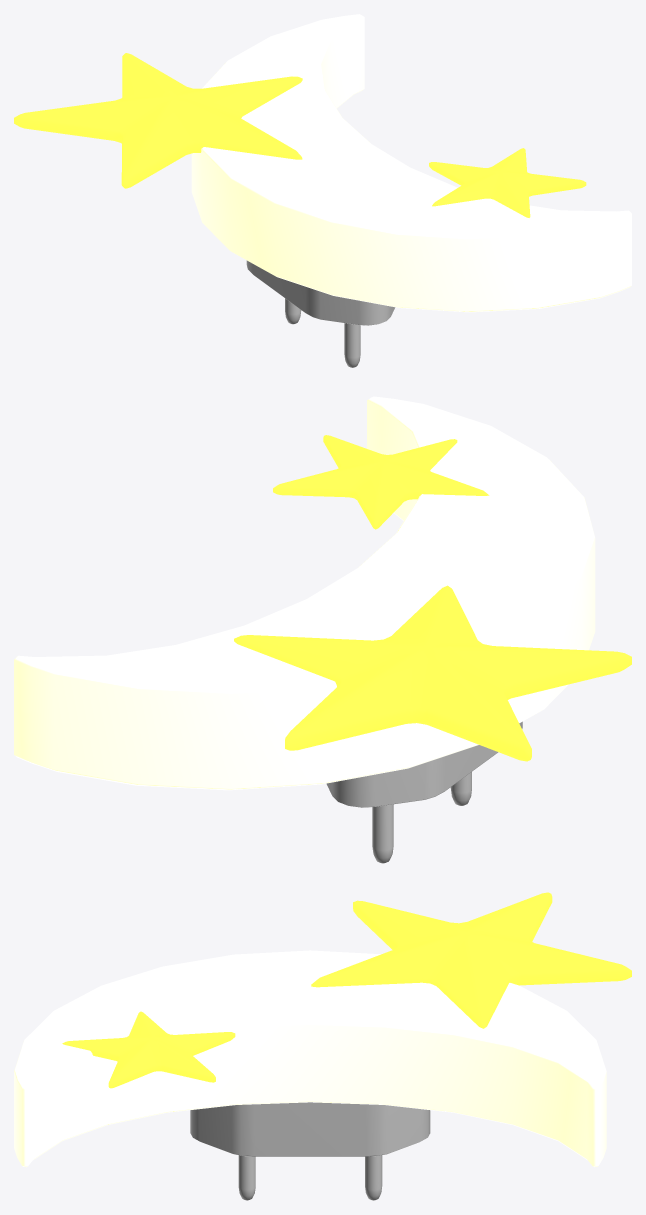
The model's file is Nightlight.fbx.
3 renders of one model, top to bottom at view 1: azimuth 30°, elevation 25°; view 2: azimuth 150°, elevation 25°; view 3: azimuth 270°, elevation 25°, orthographic. The views are drawn at different scales.
Visible parts, largest first — view 1: Nightlight; view 2: Nightlight; view 3: Nightlight.
Part boxes in pixels (box(x1,y1,x2,y2)): Nightlight: box(14, 14, 631, 367); Nightlight: box(14, 396, 631, 863); Nightlight: box(14, 892, 631, 1200).
Bounding box in the file's own units: 195 × 107 × 265.
